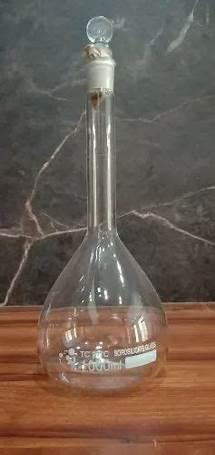Volumetric flask: (38, 7, 172, 393)
